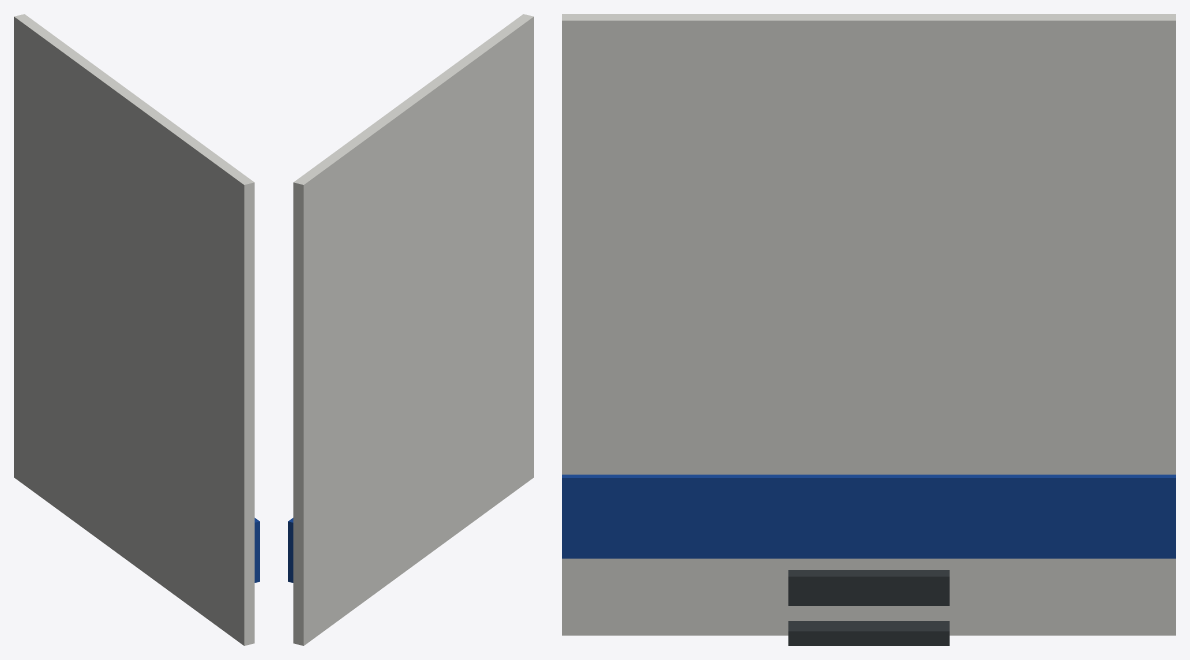
File: semi_trailer_front_wall.glb
The picture shows the model from 3 angles, left to right: view 1: azimuth 30°, elevation 25°; view 2: azimuth 150°, elevation 25°; view 3: azimuth 270°, elevation 25°; orthographic projection. The views are drawn at different scales.
Visible parts, largest first — view 1: body:compound; view 2: body:compound; view 3: body:compound.
Part boxes in pixels (x1,y1,x2,y2): body:compound: (14, 14, 259, 645); body:compound: (288, 14, 533, 645); body:compound: (562, 14, 1175, 645).
Size of the model in its own units: 0.1562 by 2.62 by 2.38.
